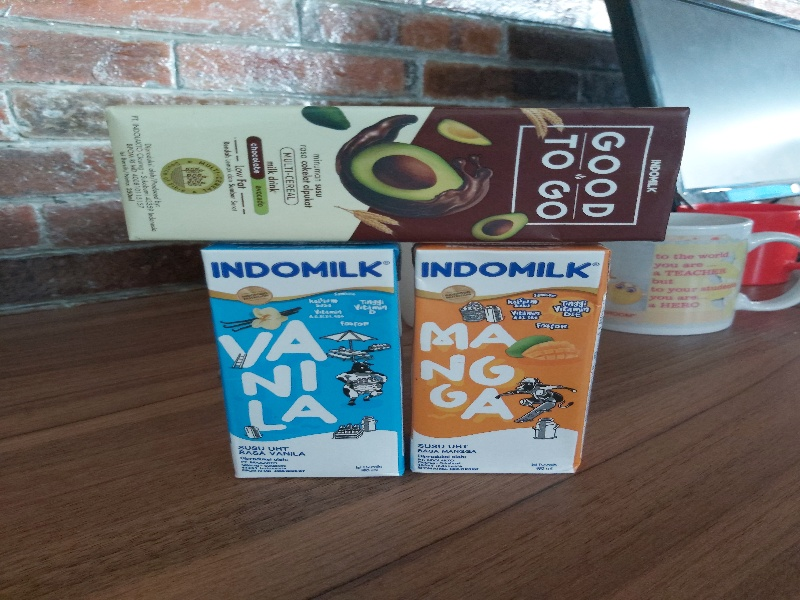cokelat: (100, 101, 691, 242)
mangga: (411, 243, 613, 477)
vanilla: (198, 245, 406, 476)
